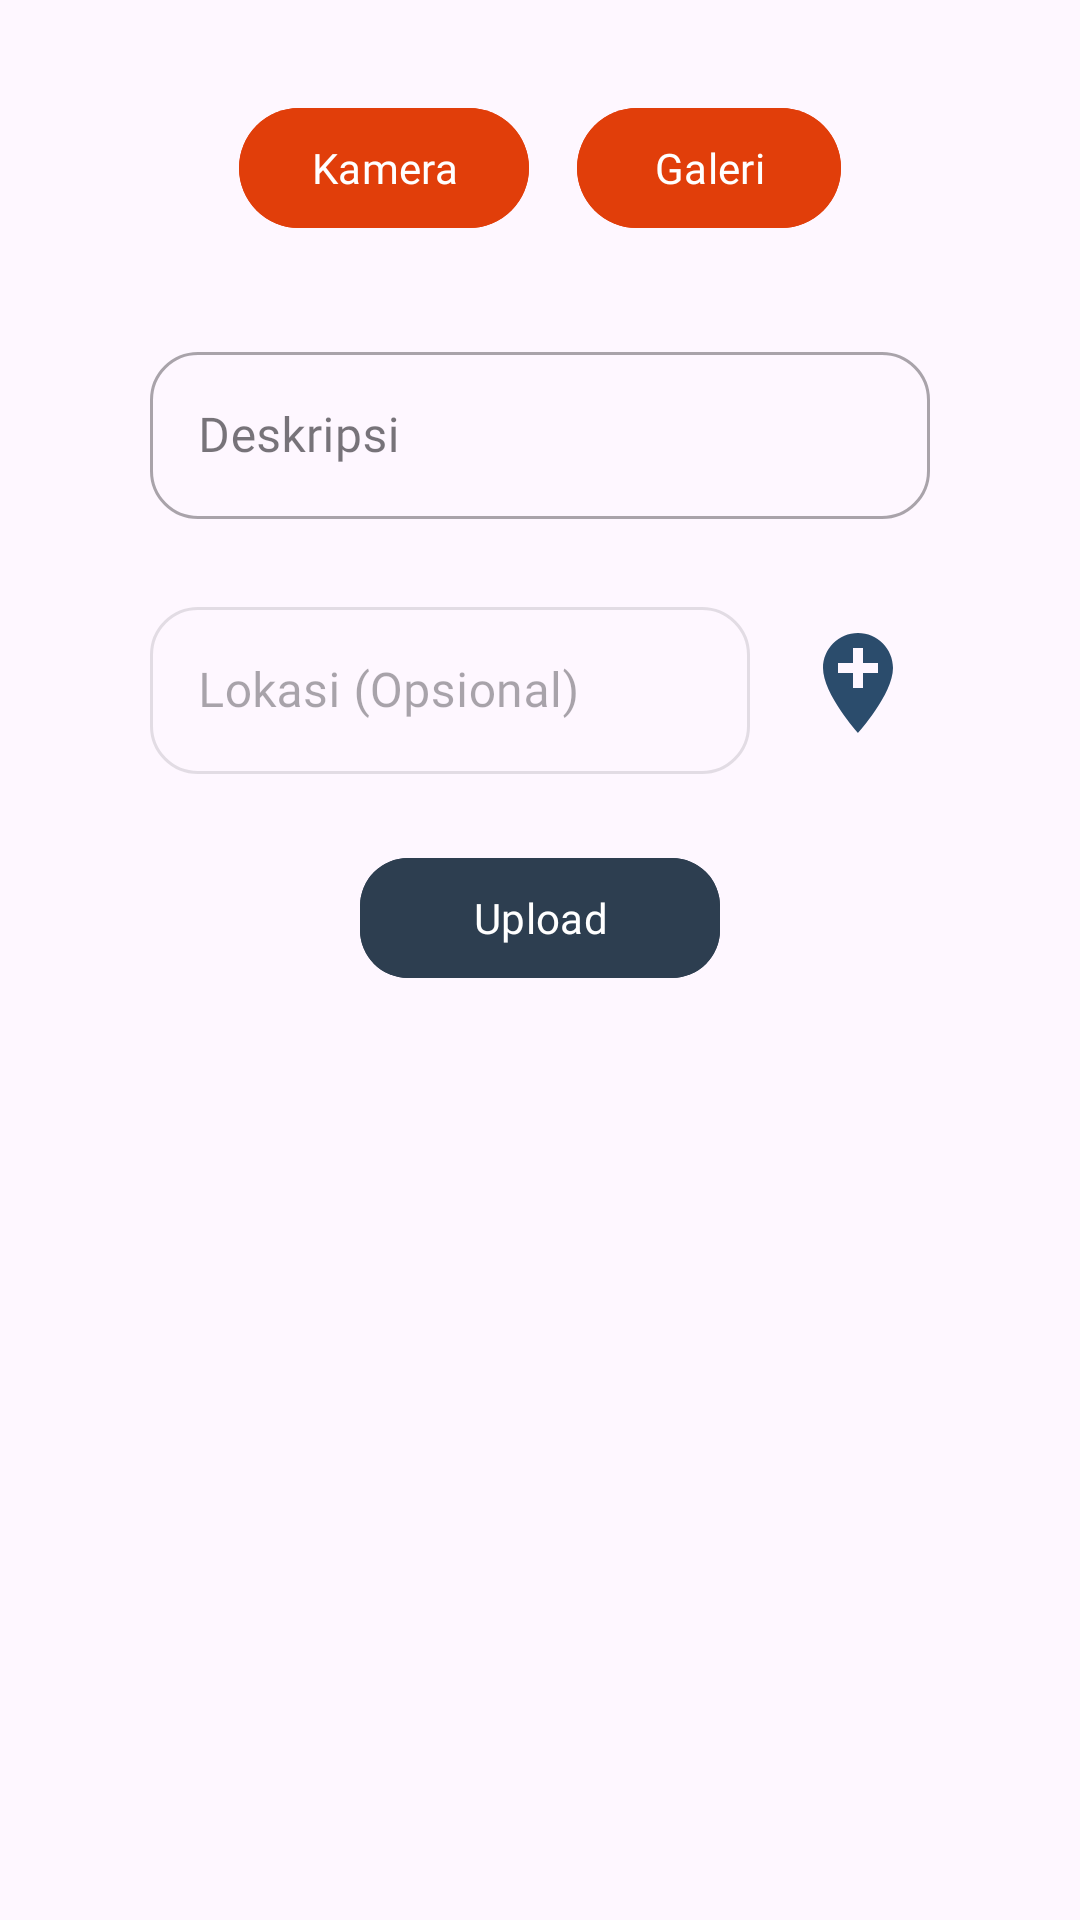

Icons on this 1080 x 1920 Android screen, each with the point to tap as (x=x, y=y):
add location: (x=858, y=683)
